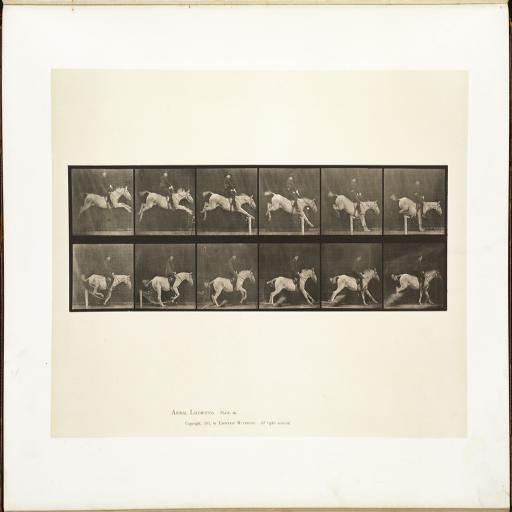Horse: (326, 193, 382, 234), (203, 269, 257, 308), (390, 194, 444, 233), (389, 267, 445, 304), (76, 184, 133, 220), (137, 188, 195, 222), (265, 191, 318, 227), (268, 268, 318, 306), (330, 268, 380, 306), (81, 273, 134, 308), (144, 273, 196, 307), (199, 191, 257, 221)
